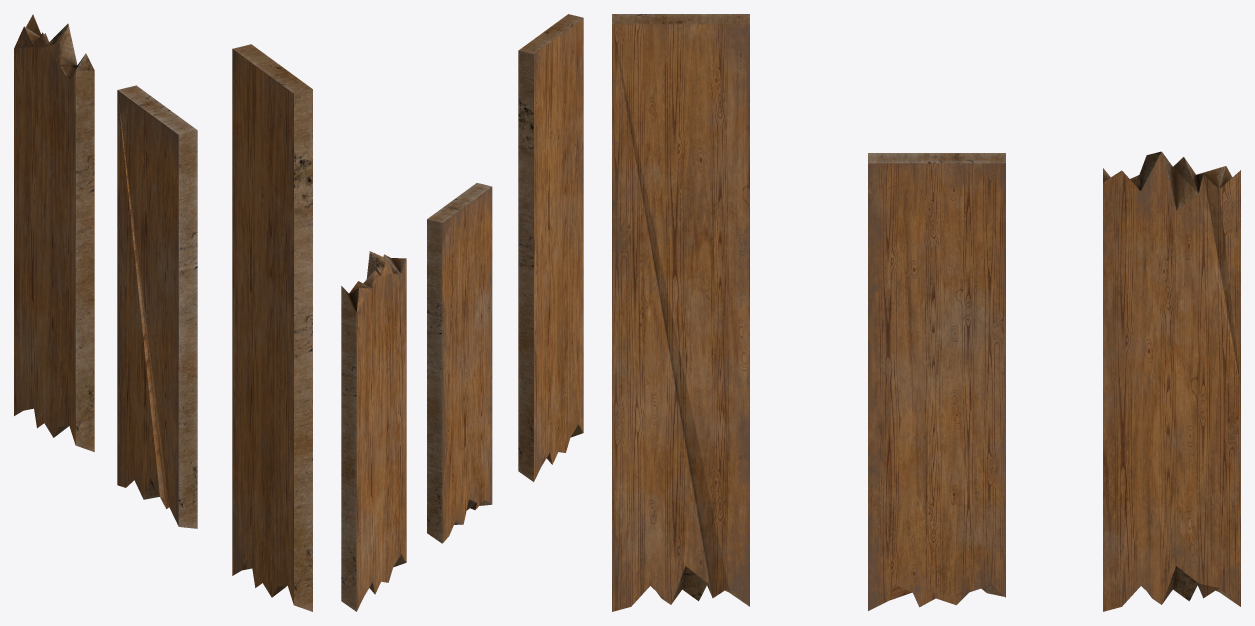
The model's file is Planks.fbx.
The picture shows the model from 3 angles, left to right: view 1: azimuth 30°, elevation 25°; view 2: azimuth 150°, elevation 25°; view 3: azimuth 270°, elevation 25°; orthographic projection. The views are drawn at different scales.
Parts seen in each view (by area): view 1: Cube.003, Cube.009, Cube.004; view 2: Cube.003, Cube.009, Cube.004; view 3: Cube.003, Cube.009, Cube.004.
Boxes of the visible parts, <box> form: Cube.003: <box>232,44,312,611</box>; Cube.009: <box>117,85,197,528</box>; Cube.004: <box>14,14,94,451</box>; Cube.003: <box>518,14,583,481</box>; Cube.009: <box>427,183,492,543</box>; Cube.004: <box>341,251,406,611</box>; Cube.003: <box>612,14,749,611</box>; Cube.009: <box>868,153,1005,610</box>; Cube.004: <box>1103,151,1240,611</box>.
Bounding box in the file's own units: 13.64 × 341 × 328.
Materials: 1 (1 with a texture image).
